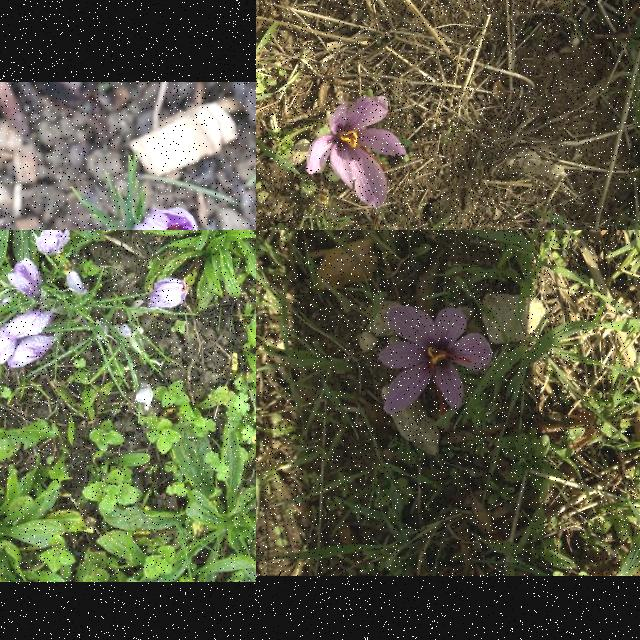flower: (378, 305, 494, 415), (306, 97, 406, 209), (6, 258, 44, 300), (144, 276, 190, 310), (130, 209, 200, 230), (36, 230, 72, 257), (66, 268, 88, 296), (135, 387, 155, 411)
overlap: (0, 308, 57, 370)
